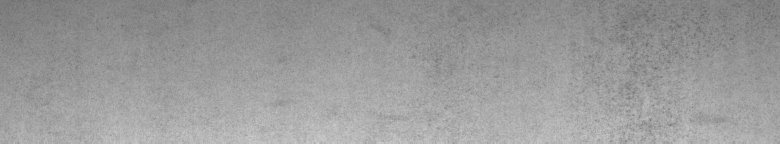ib: (623, 20, 704, 132)
